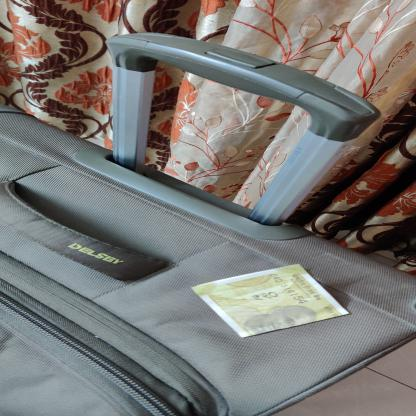New20Front: (189, 264, 352, 339)
